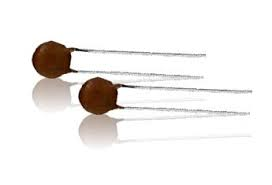ceramic capacitor: (19, 24, 80, 92), (66, 75, 138, 122)
